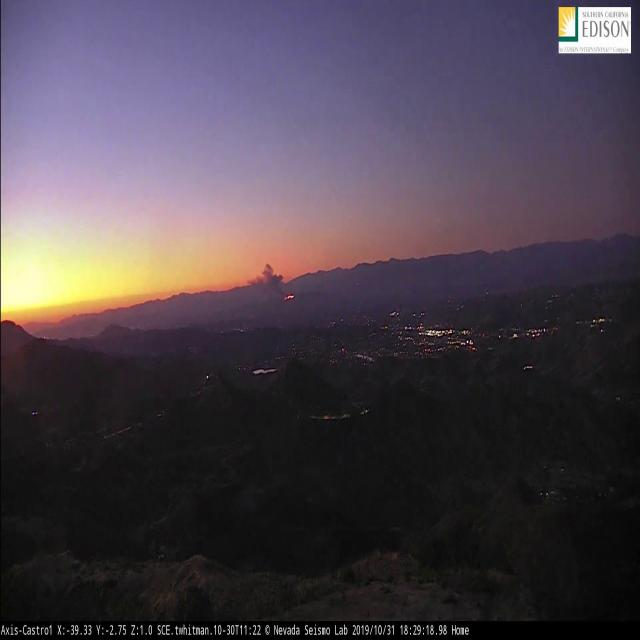smoke: (248, 263, 295, 301)
